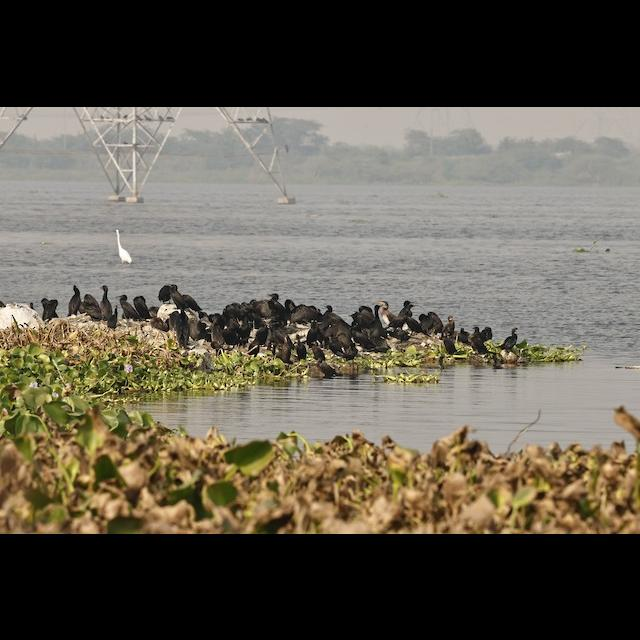egret: (114, 227, 136, 265)
